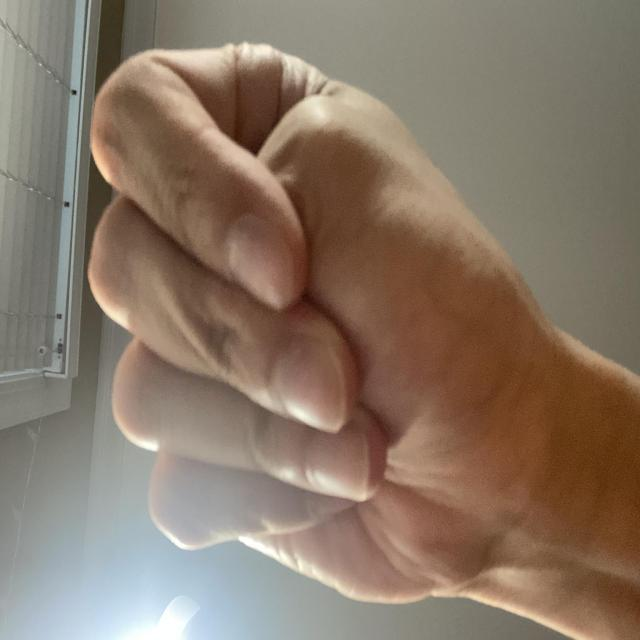M: (16, 106, 452, 640)
